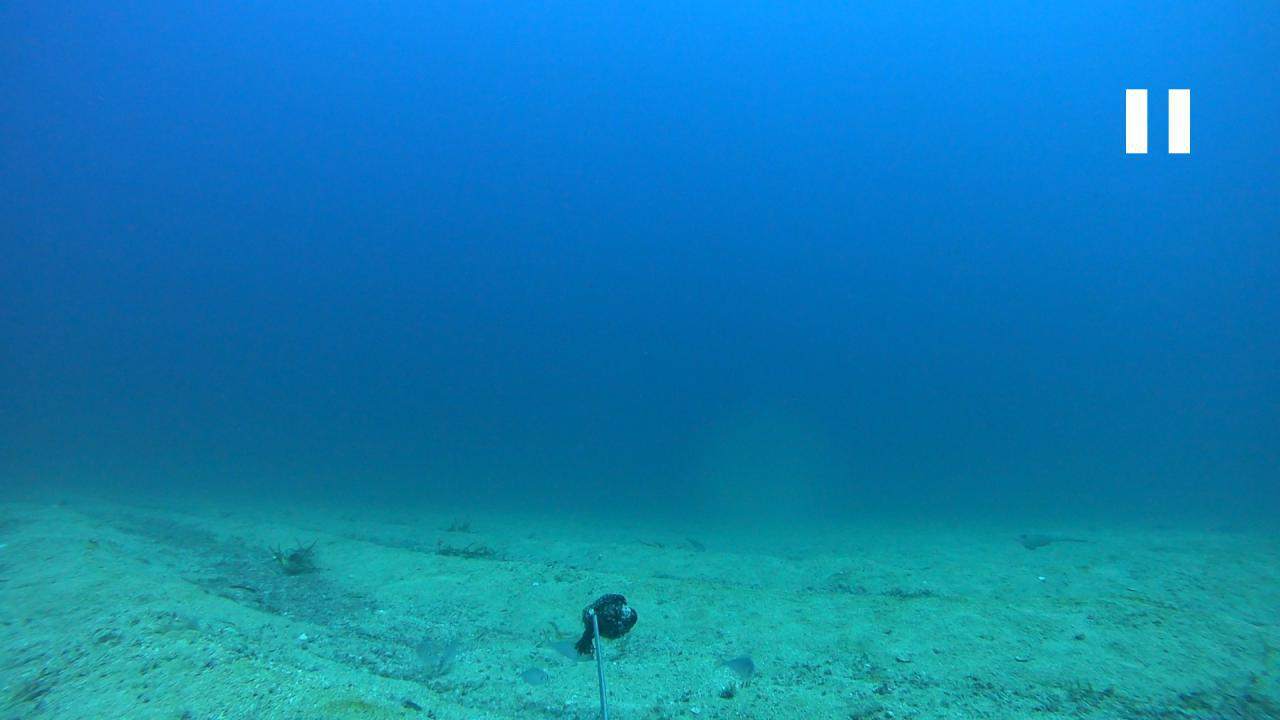dasyatis: (1013, 529, 1096, 549)
pagellus: (536, 627, 596, 662), (710, 647, 754, 679), (515, 666, 552, 686)
